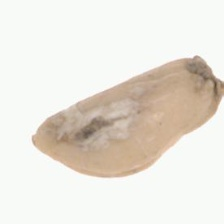L1: (191, 54, 224, 95), (31, 129, 53, 161)
L2: (32, 56, 224, 179)
